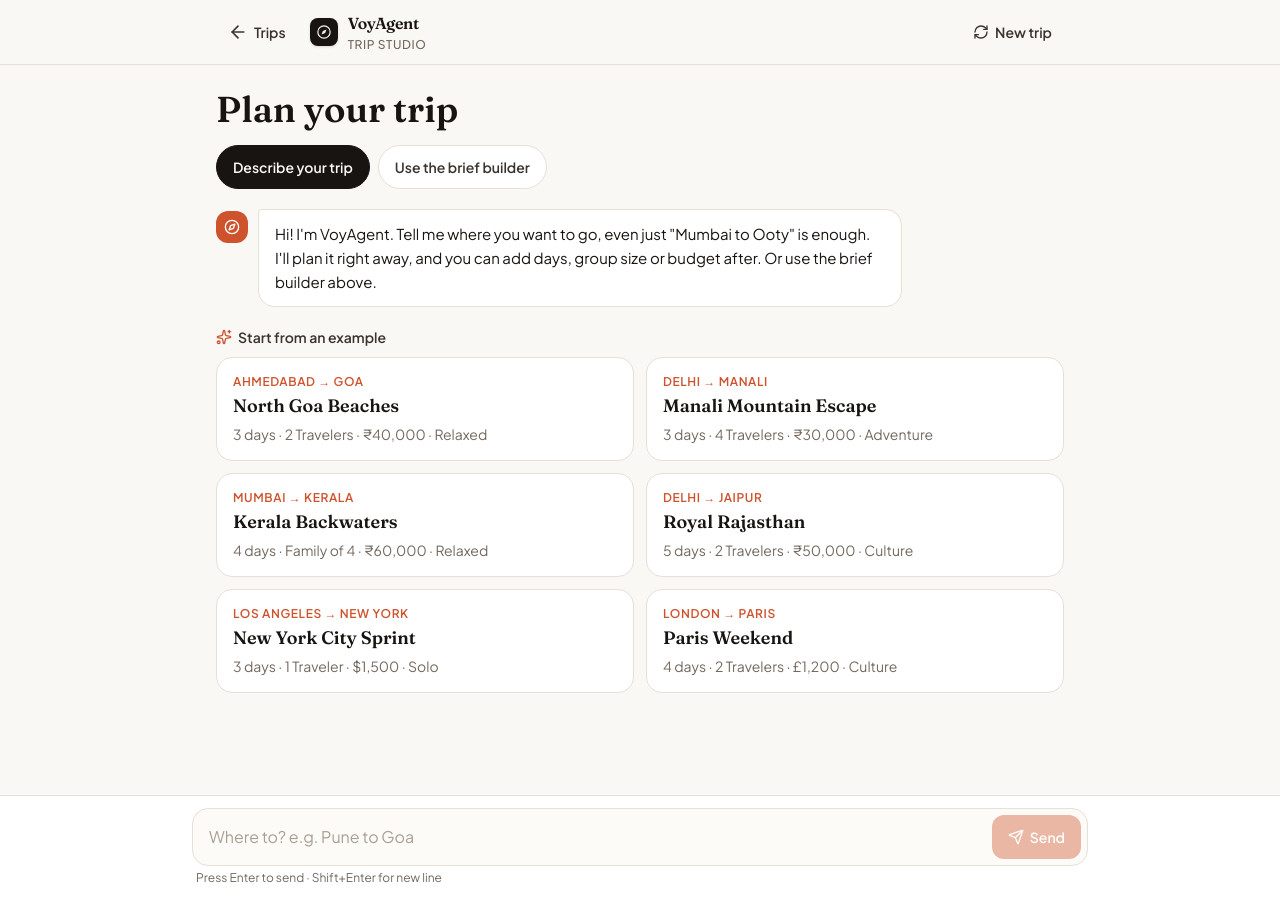
Test: Trip planner › fills the suggested budget when its quick-fill chip is tapped
Type "Europe trip" into the text box named "describe your trip" at (591, 837), box [199,815,984,859]
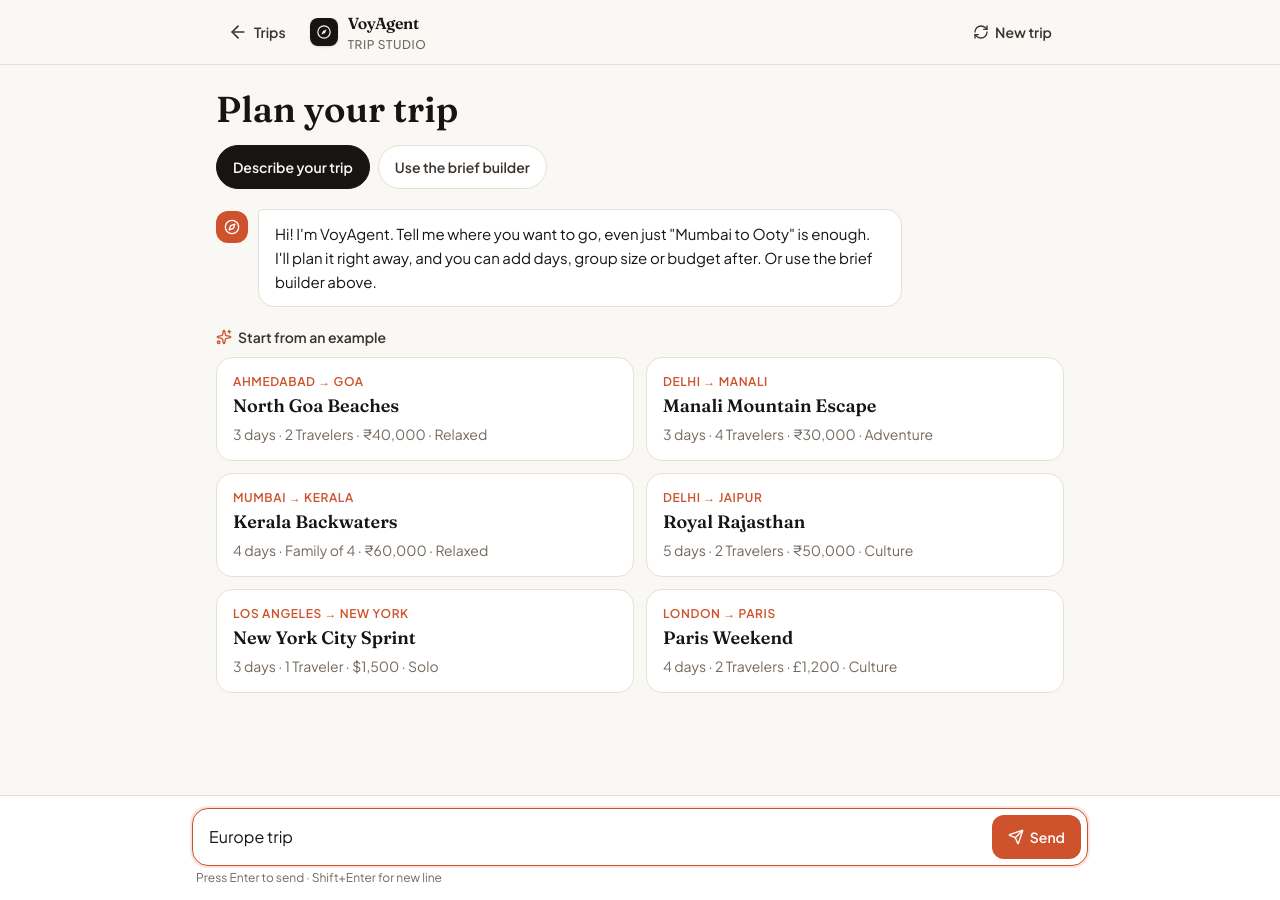
Click the button with aria-label "Send message" at (1036, 837), box [992,815,1081,859]
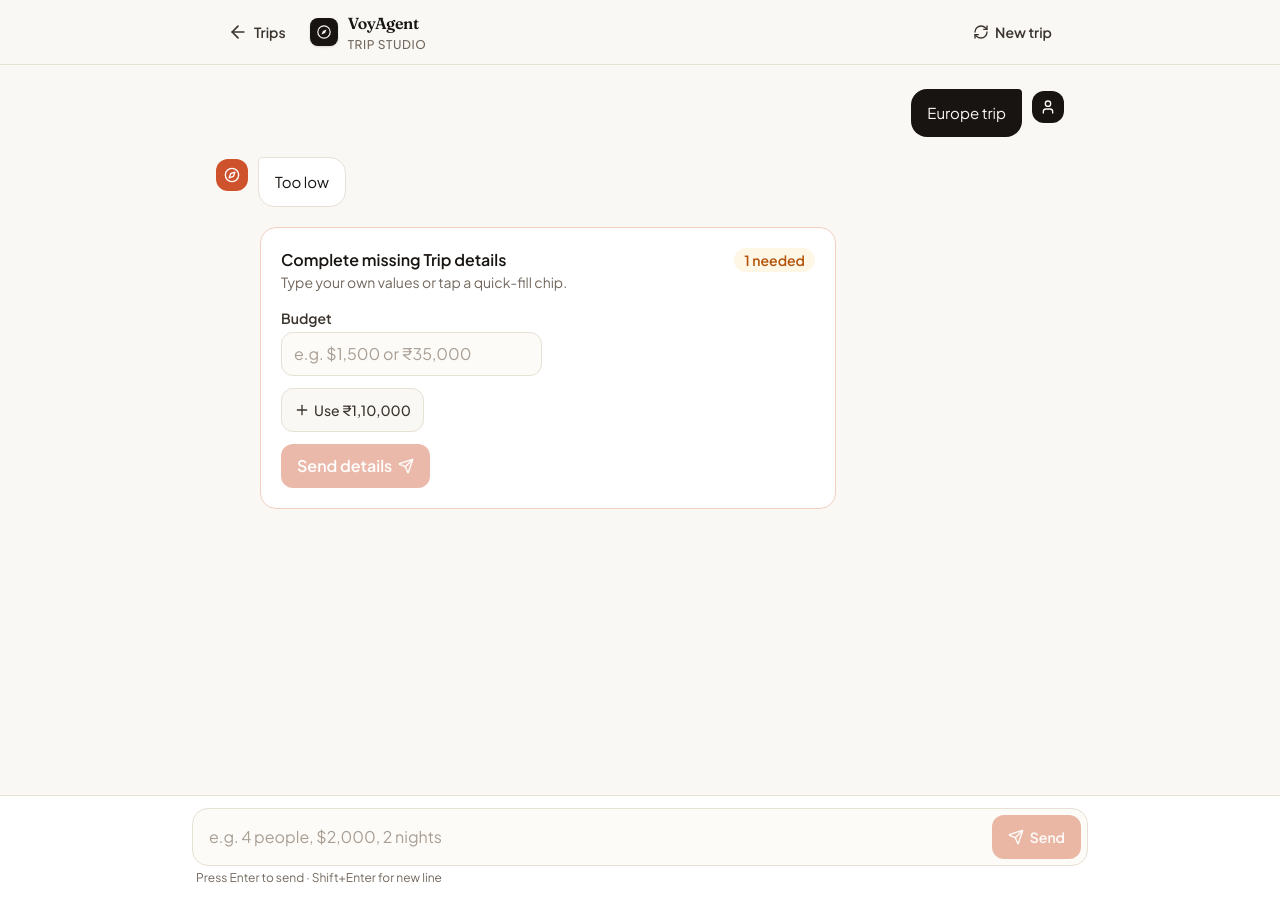
Click the button "Use ₹1,10,000" at (352, 410), box [281,388,424,432]
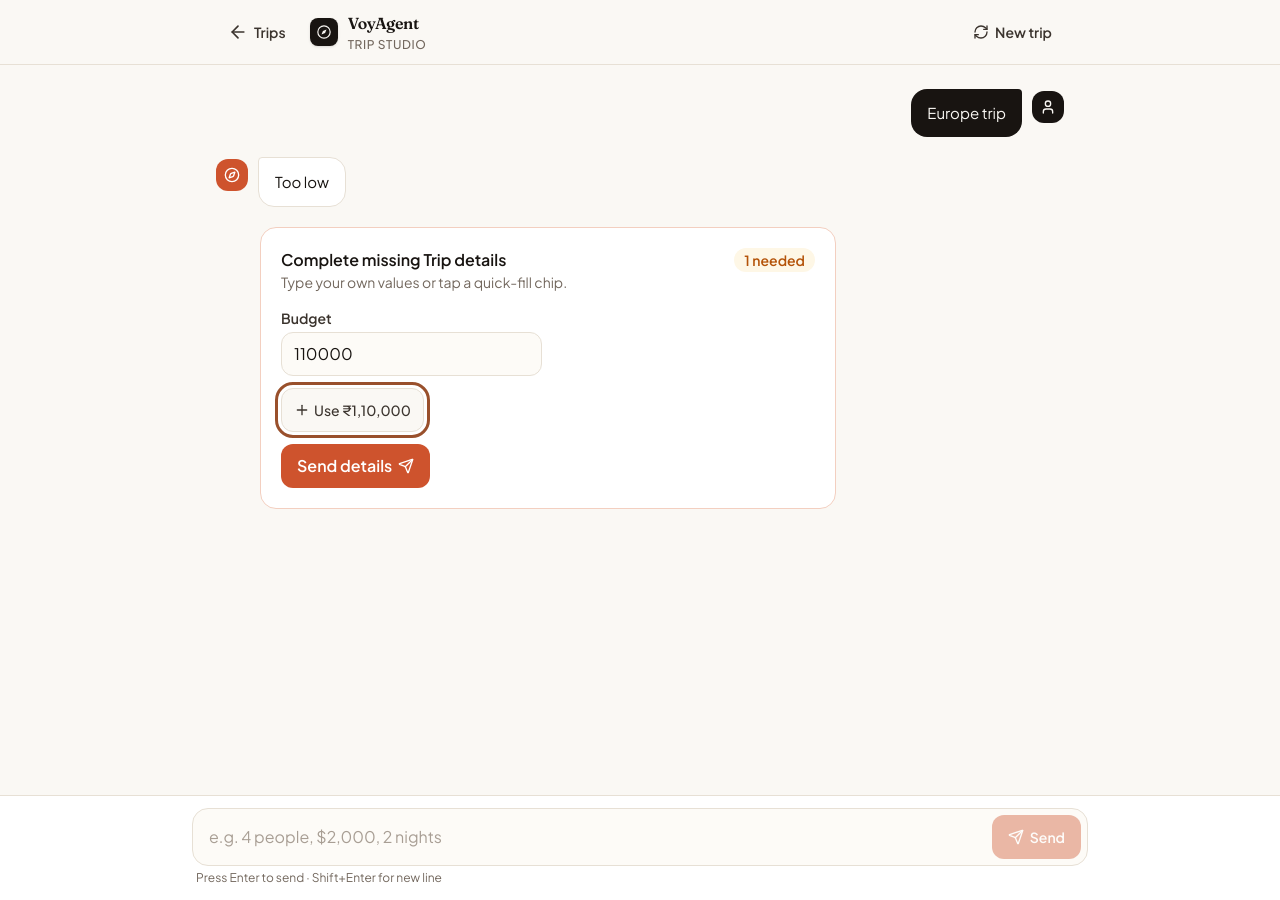
Result: the text box named "describe your trip" is empty at [199,815,984,859]
Result: the field labelled "Budget" holds "110000" at [281,332,542,376]
